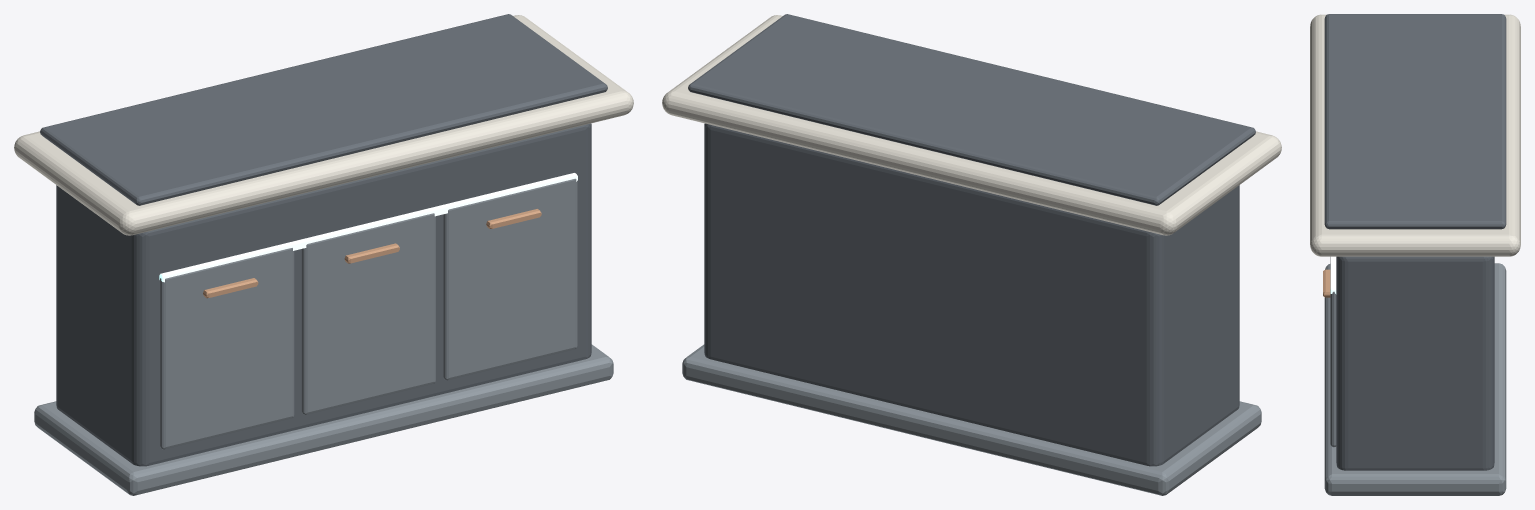
Rendered from bar_counter.glb.
3 views of the same model, side by side, from view 1: azimuth 30°, elevation 25°; view 2: azimuth 150°, elevation 25°; view 3: azimuth 270°, elevation 25° (orthographic). The views are drawn at different scales.
Parts seen in each view (by area): view 1: shell_002, shell_004, shell_006, shell_010, shell_008, shell_003, shell_001, shell_005; view 2: shell_002, shell_004, shell_003, shell_001; view 3: shell_004, shell_002, shell_003, shell_001, shell_010, shell_005.
Boxes of the visible parts, x1,y1,x2,y2 form: shell_002: (56, 123, 591, 466); shell_004: (40, 14, 607, 205); shell_006: (160, 248, 294, 449); shell_010: (443, 178, 577, 380); shell_008: (301, 213, 435, 414); shell_003: (14, 15, 633, 235); shell_001: (34, 344, 613, 495); shell_005: (159, 173, 577, 282); shell_002: (704, 123, 1239, 466); shell_004: (688, 14, 1255, 205); shell_003: (662, 15, 1281, 235); shell_001: (682, 344, 1261, 495); shell_004: (1324, 14, 1506, 229); shell_002: (1336, 256, 1494, 470); shell_003: (1310, 14, 1520, 256); shell_001: (1324, 263, 1506, 495); shell_010: (1330, 257, 1336, 447); shell_005: (1330, 256, 1336, 294).
Size of the model in its own units: 1.85 by 1.03 by 0.72.
